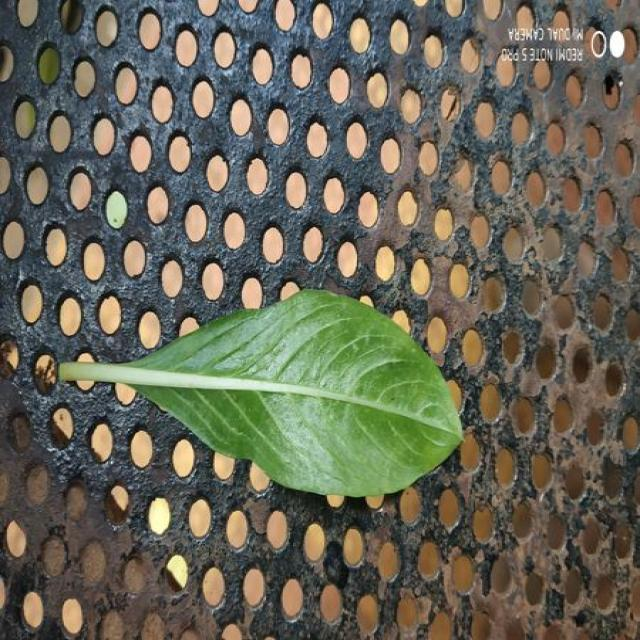catharanthus: (0, 0, 638, 639), (60, 290, 462, 496)
